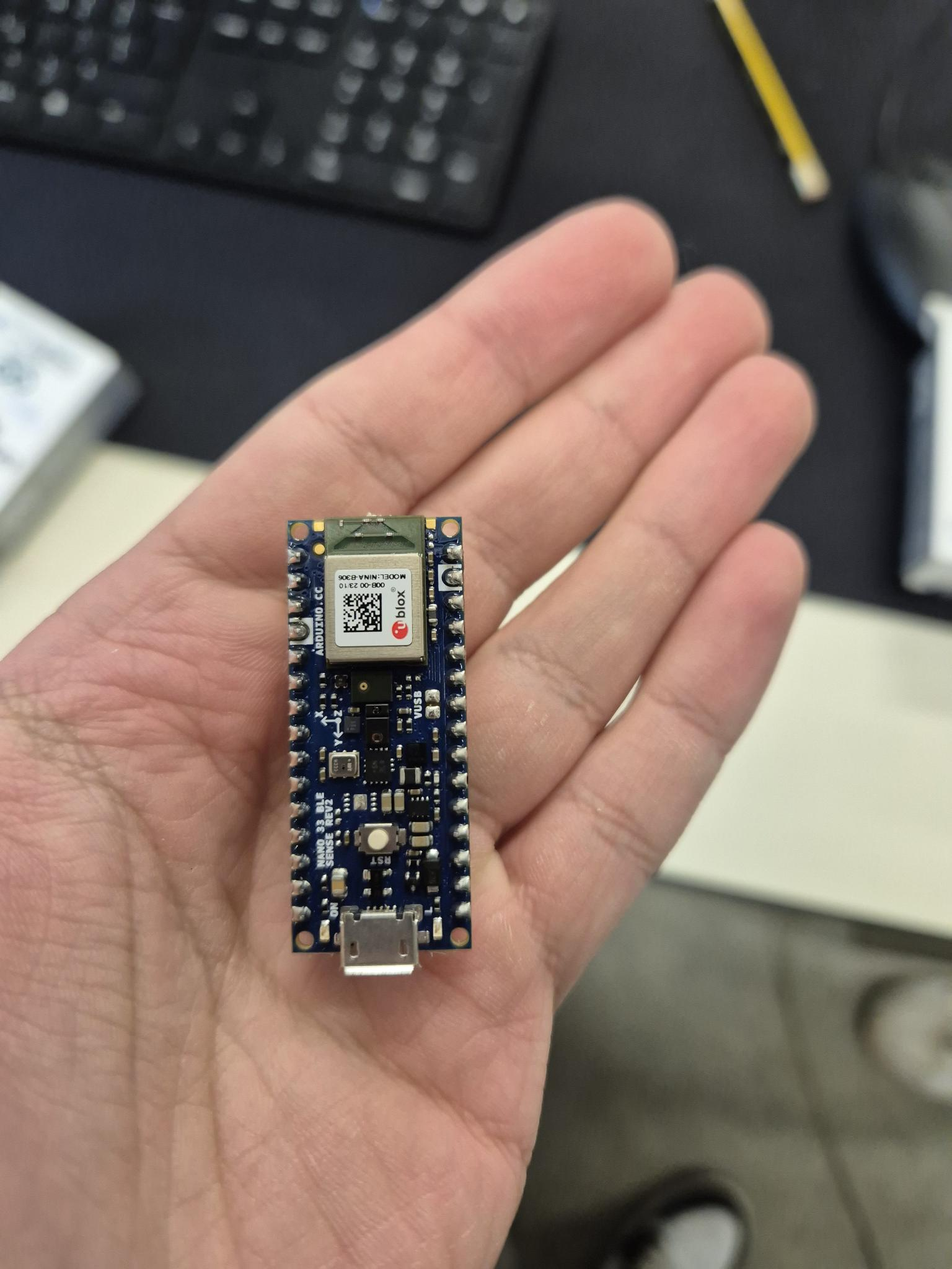arduino-nano-ble-sense: (288, 514, 472, 976)
